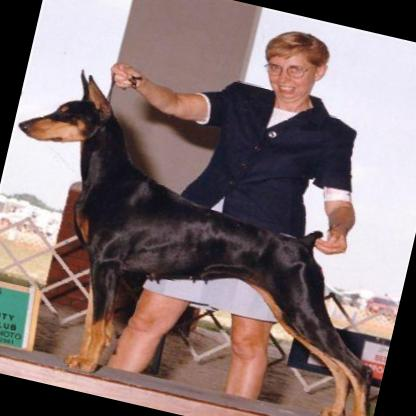Doberman: (0, 56, 416, 416)
